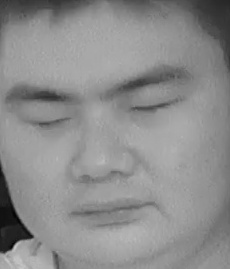blink: (130, 91, 177, 127), (26, 107, 71, 138)
mouth: (64, 189, 155, 233)
